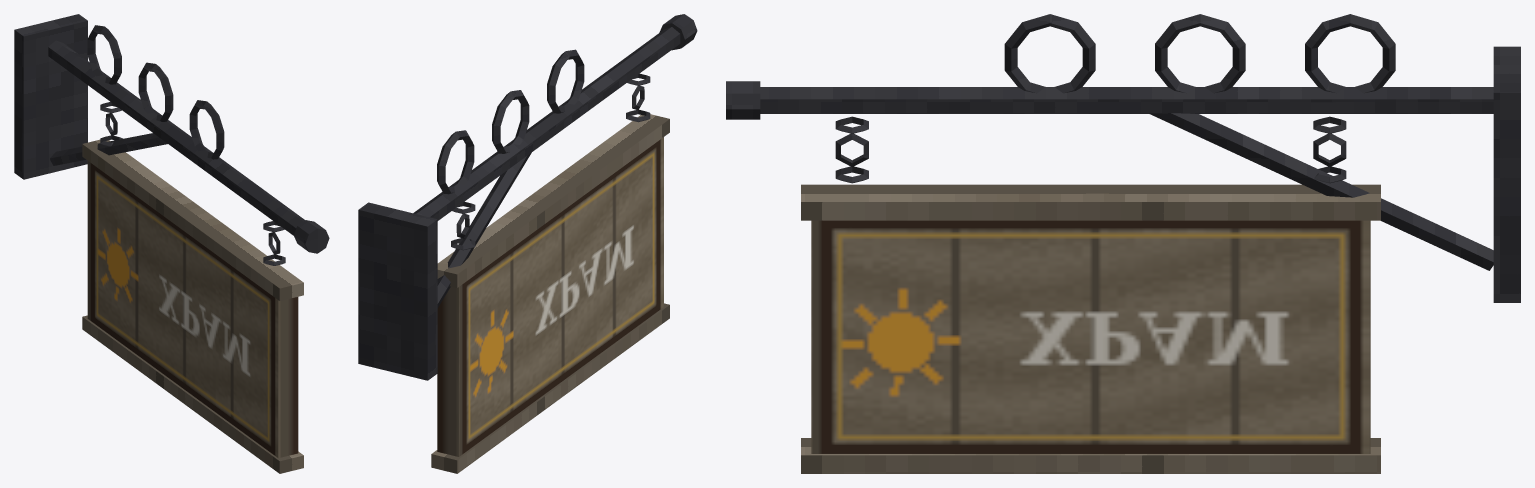
Rendered from sign_temple.obj.
3 renders of one model, left to right at view 1: azimuth 30°, elevation 25°; view 2: azimuth 150°, elevation 25°; view 3: azimuth 270°, elevation 25°, orthographic. The views are drawn at different scales.
Visible parts, largest first — view 1: sign_temple; view 2: sign_temple; view 3: sign_temple.
Boxes of the visible parts, <box> form: sign_temple: <box>14,14,329,473</box>; sign_temple: <box>358,14,697,473</box>; sign_temple: <box>726,14,1520,473</box>.
Bounding box in the file's own units: 0.16 × 0.73 × 1.16.
